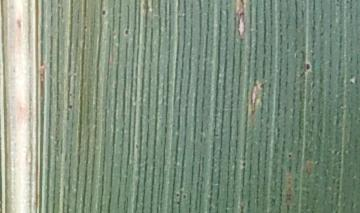tarspot: (305, 63, 311, 71), (101, 10, 107, 16), (124, 29, 130, 35), (242, 162, 246, 167), (176, 201, 181, 205), (68, 105, 72, 110), (176, 193, 180, 197), (182, 195, 186, 199), (288, 154, 291, 158)
